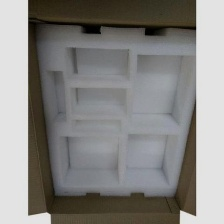foam_box: (32, 19, 195, 202)
